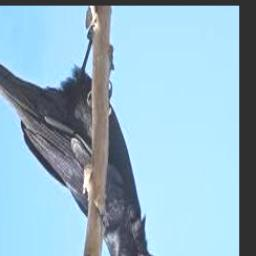Crow: (0, 40, 157, 256)
